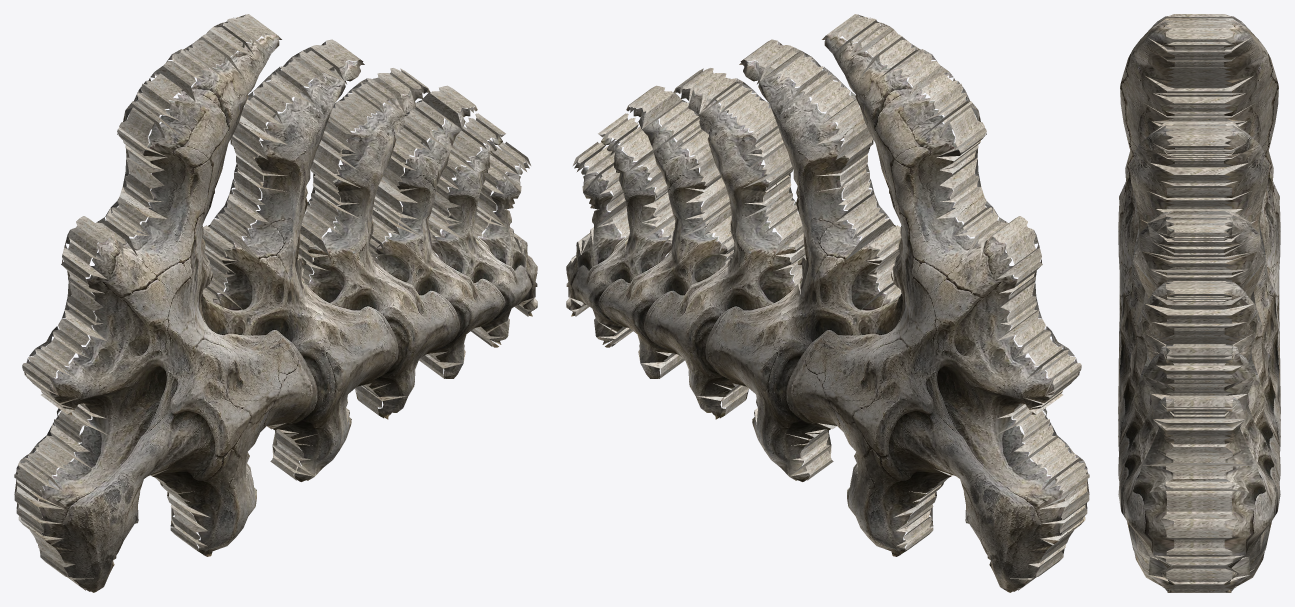
File: Jotunheim_Bone_Spine.glb
3 views of the same model, side by side, from view 1: azimuth 30°, elevation 25°; view 2: azimuth 150°, elevation 25°; view 3: azimuth 270°, elevation 25° (orthographic). The views are drawn at different scales.
Parts seen in each view (by area): view 1: Jotunheim_Bone_Spine; view 2: Jotunheim_Bone_Spine; view 3: Jotunheim_Bone_Spine.
Part boxes in pixels (x1=…): Jotunheim_Bone_Spine: x1=14, y1=14, x2=537, y2=592; Jotunheim_Bone_Spine: x1=566, y1=14, x2=1089, y2=592; Jotunheim_Bone_Spine: x1=1118, y1=14, x2=1280, y2=592.
Size of the model in its own units: 0.9805 by 0.9727 by 0.237.
1 material, 1 textured.
